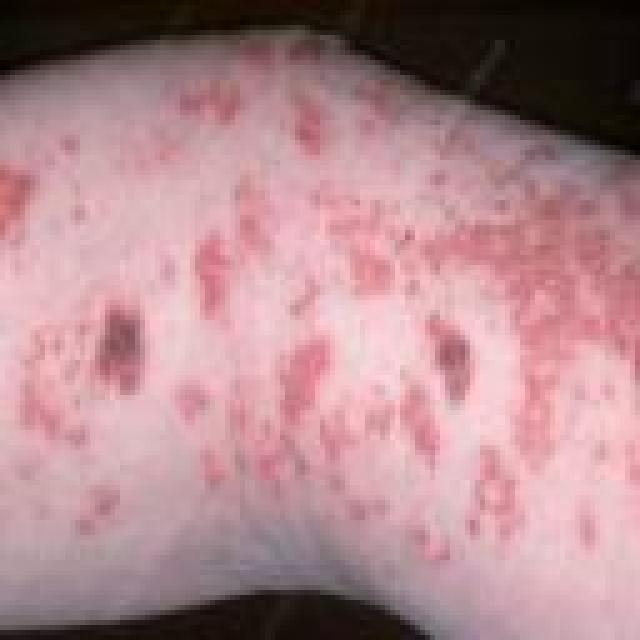Shingles: (1, 43, 640, 568)
